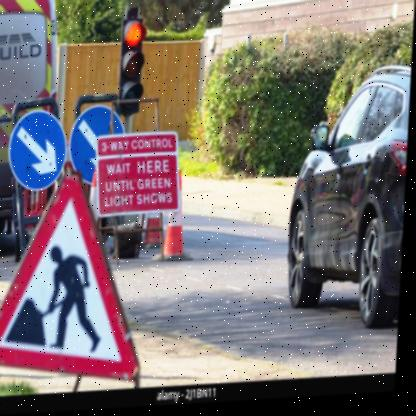Keep right: (8, 104, 71, 194), (70, 102, 131, 193)
